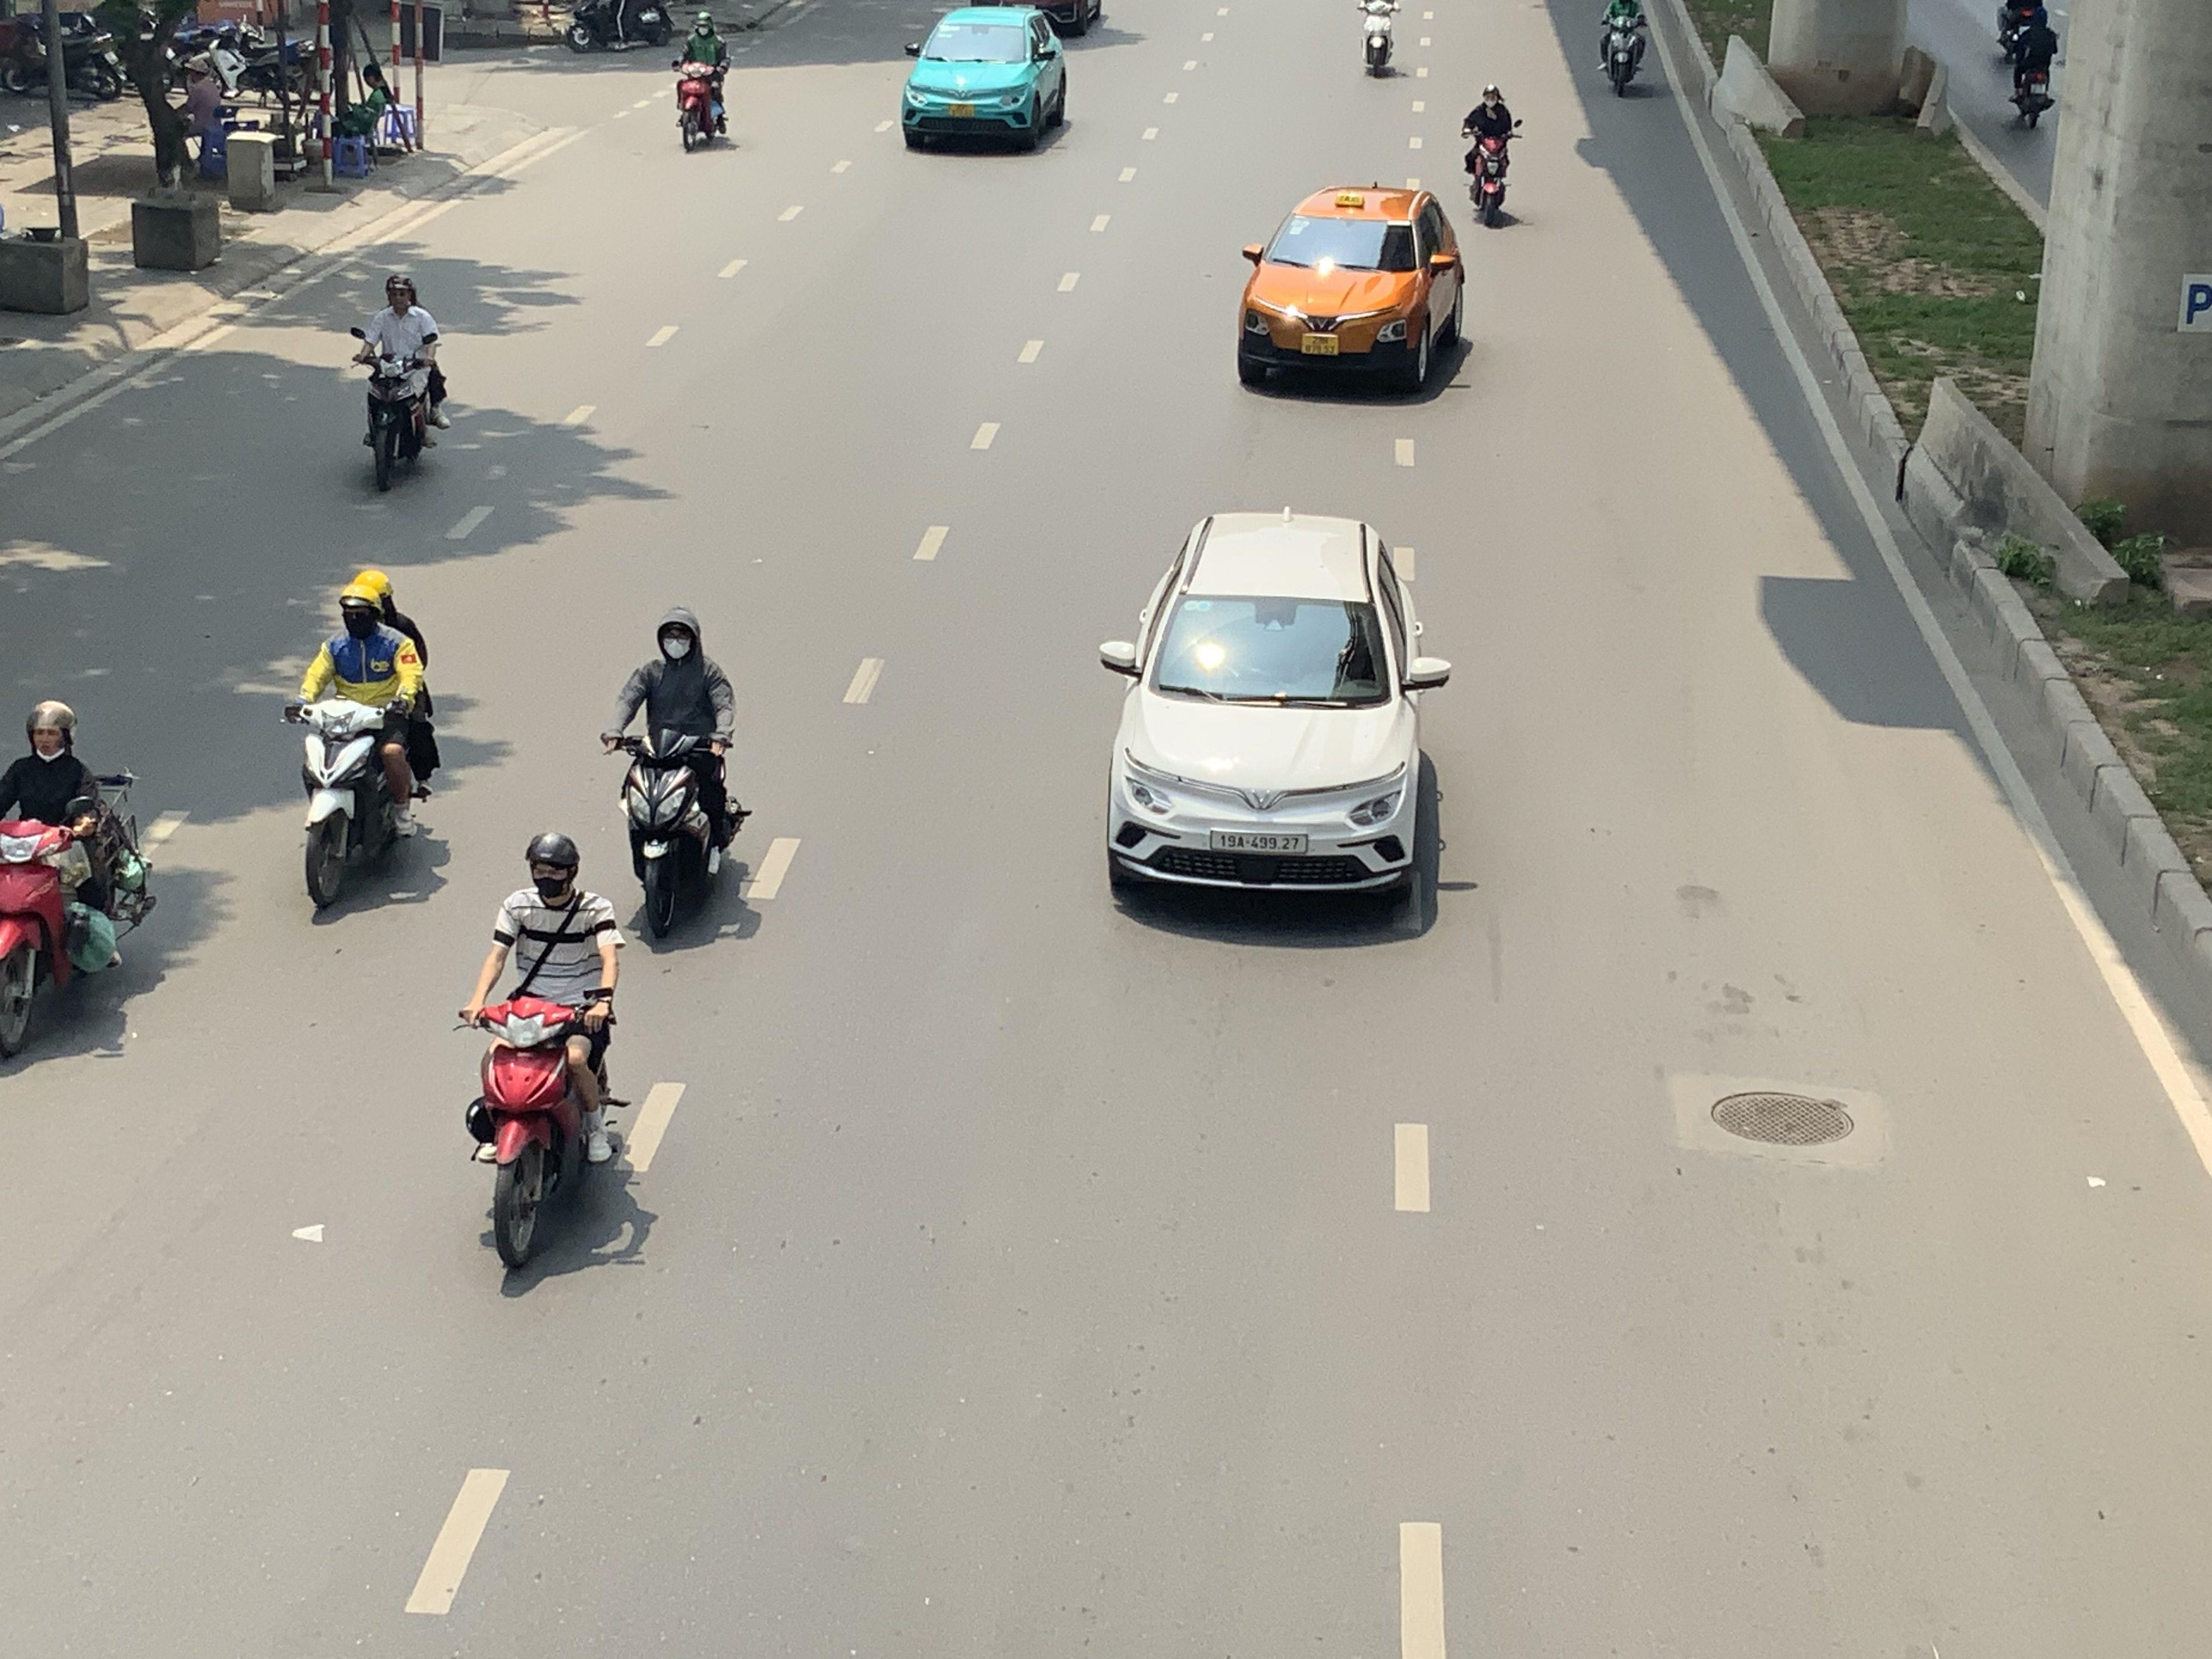BSD: (1211, 830, 1310, 854)
BSV: (1303, 333, 1339, 354)
car: (1097, 509, 1453, 918), (1237, 185, 1470, 396), (900, 3, 1069, 155)
motorbike: (460, 830, 631, 1274), (0, 697, 155, 1063), (284, 566, 439, 922), (604, 608, 749, 941), (352, 270, 448, 493), (672, 10, 733, 152), (1461, 84, 1521, 227), (2006, 5, 2059, 131), (566, 0, 674, 54), (1597, 0, 1649, 96), (1359, 0, 1400, 78)
